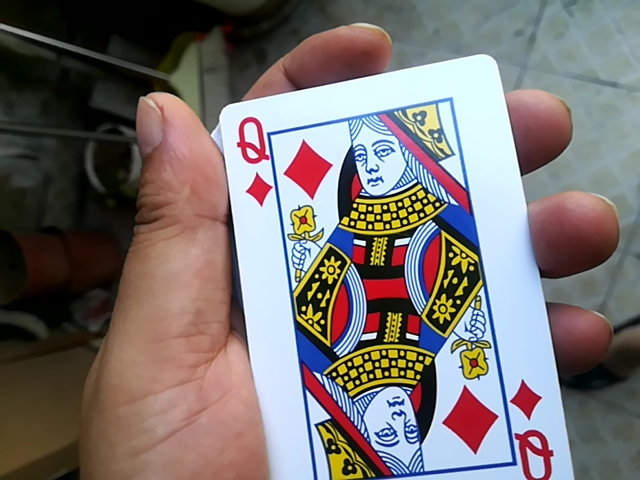fk q: (218, 53, 556, 478)
